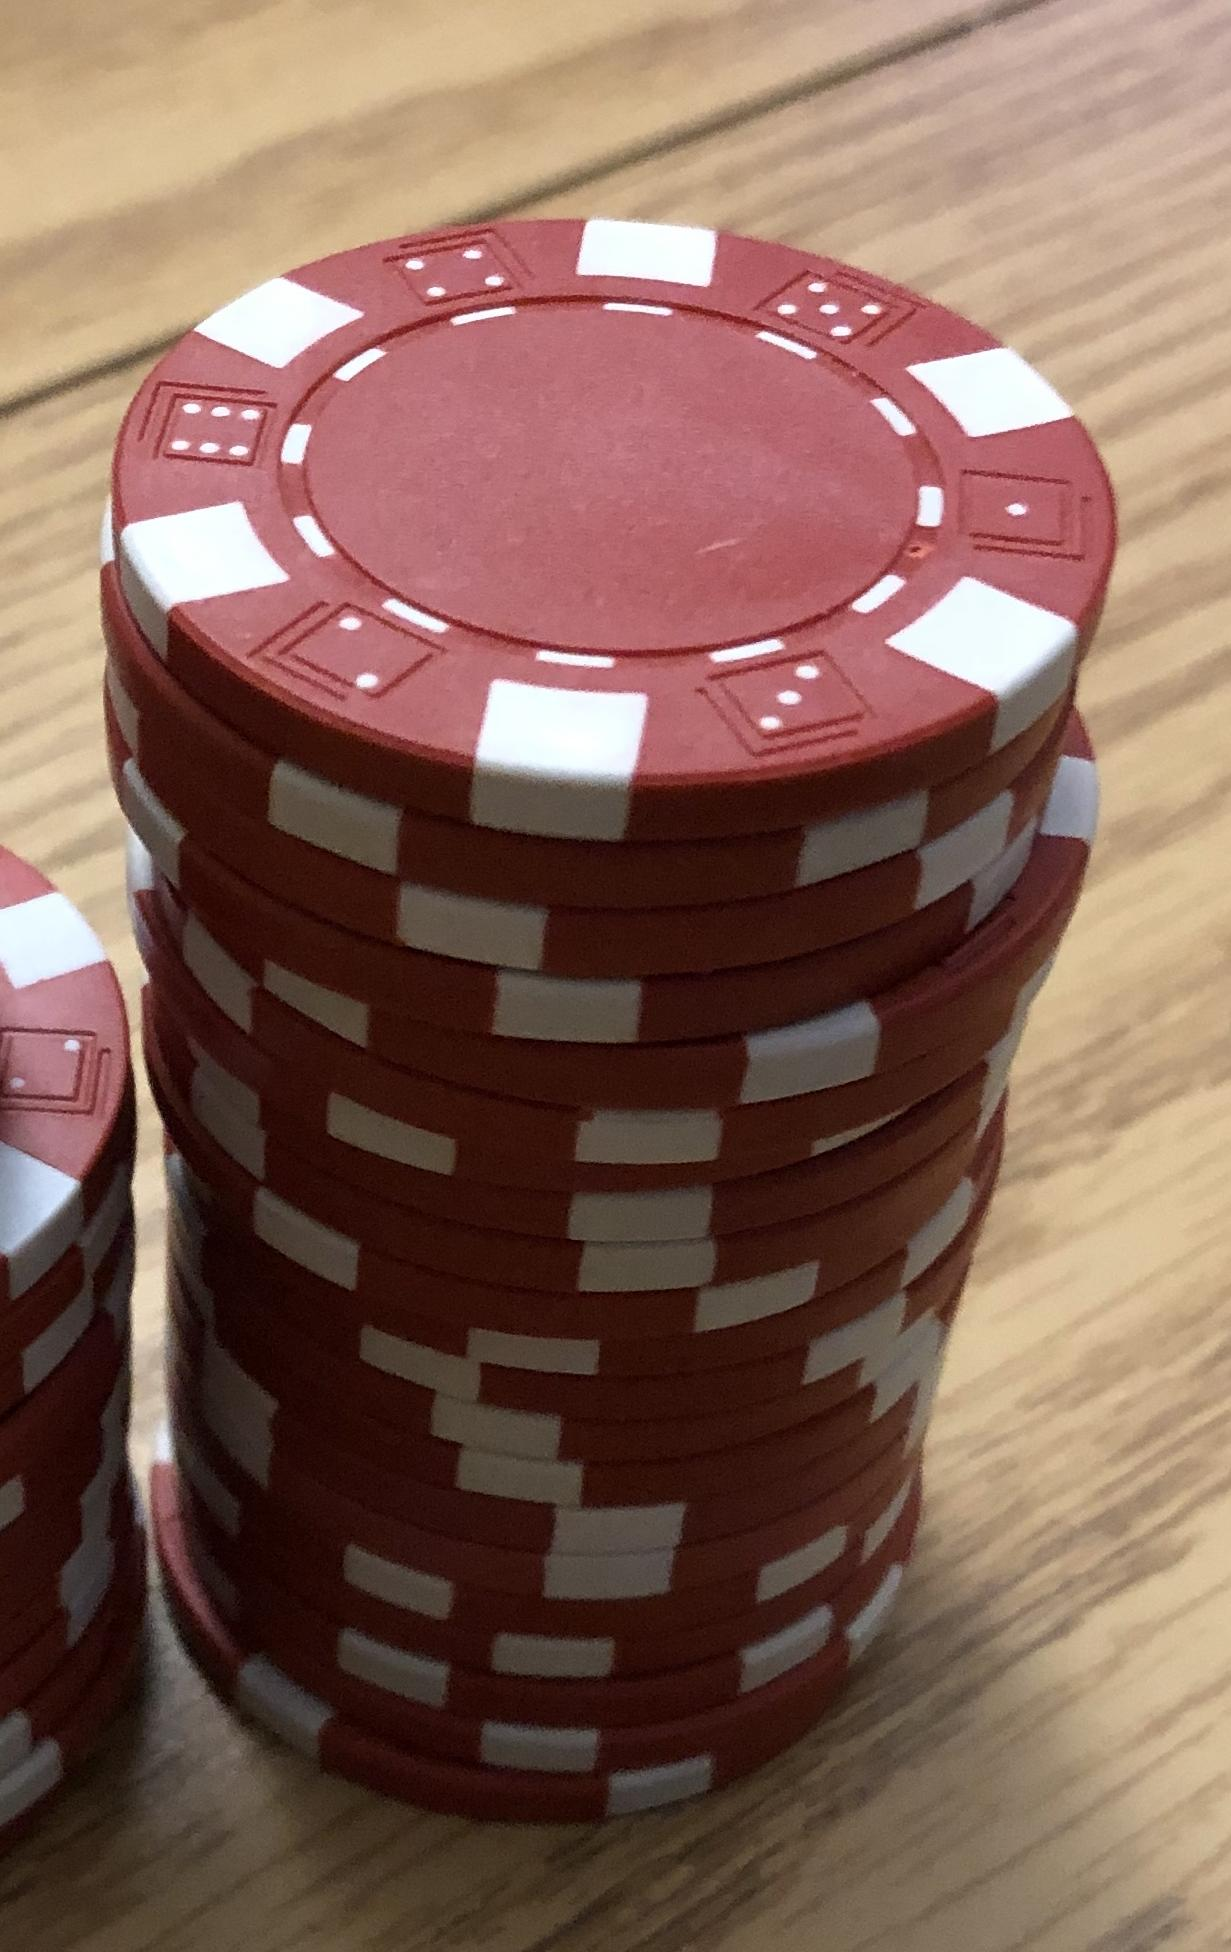Chip: (1, 1, 1231, 1952)
